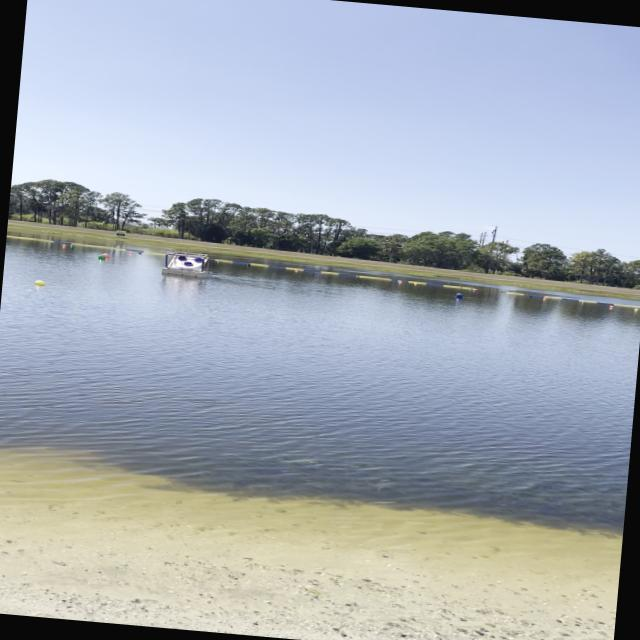buoy: (32, 279, 46, 286), (454, 292, 466, 299), (96, 253, 106, 259), (101, 252, 111, 258), (540, 296, 550, 300), (632, 307, 638, 312), (61, 244, 66, 248), (245, 263, 250, 266), (609, 305, 614, 308), (128, 250, 132, 253)
